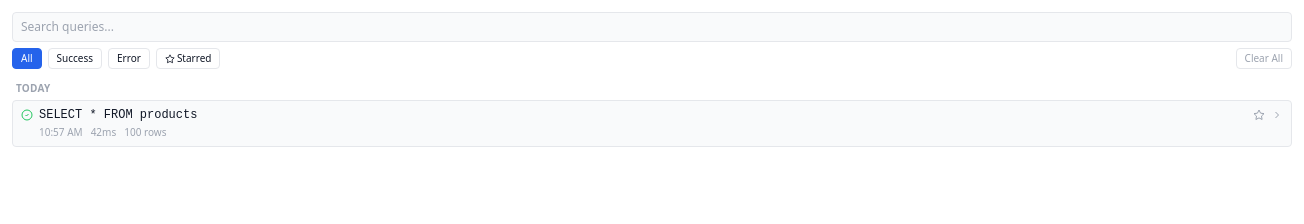
Test: QH-6: Copy SQL button works › shows Copy SQL button in expanded view and changes to Copied! after click
Expand the entry first
What coordinates should you click on to do the following:
click the button with test id "query-history-entry-toggle"
I would click on:
 (118, 115)
Its box is [13,101,1291,146].
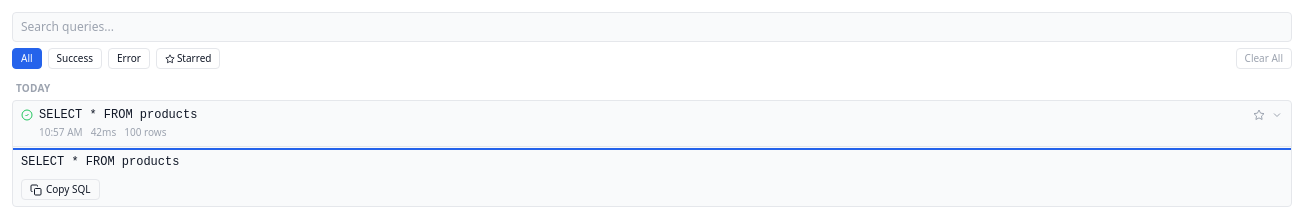
Expected: the button with test id "query-history-copy" reads "Copy SQL"
Click copy
What coordinates should you click on to do the following:
click the button with test id "query-history-copy"
I would click on:
 (60, 190)
Its box is [21,179,100,200].
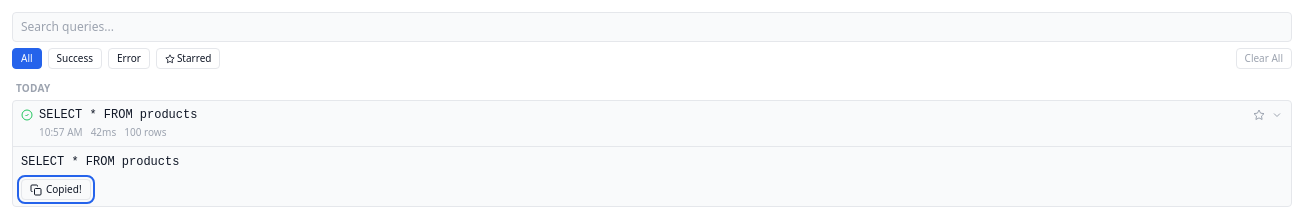
Expected: the button with test id "query-history-copy" reads "Copied!", [21,179,91,200]
